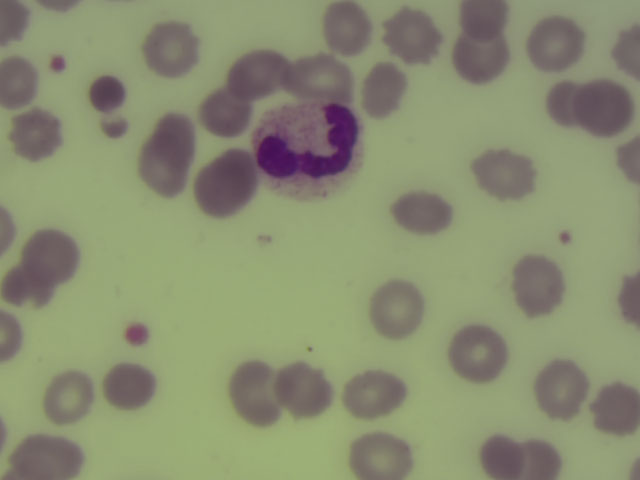Platelets: (116, 318, 154, 356), (45, 50, 74, 78), (554, 224, 578, 250)
RBC: (280, 55, 354, 101), (15, 432, 81, 480), (524, 19, 581, 73), (143, 124, 193, 182), (509, 258, 563, 310), (586, 383, 640, 435), (533, 363, 587, 415), (397, 186, 451, 238), (477, 143, 531, 195), (577, 81, 631, 133), (454, 32, 508, 84), (452, 327, 506, 379), (370, 283, 424, 335), (347, 368, 401, 420), (277, 364, 331, 416), (228, 369, 282, 421), (102, 361, 156, 413), (41, 370, 95, 422), (23, 228, 77, 280), (198, 156, 252, 208), (198, 85, 252, 137), (231, 48, 285, 100), (382, 8, 436, 60), (141, 24, 195, 76), (8, 108, 62, 160), (319, 1, 373, 52), (477, 427, 525, 480), (359, 62, 404, 118), (350, 435, 405, 480), (1, 265, 54, 310), (542, 78, 581, 128), (1, 56, 35, 113), (608, 131, 640, 191), (517, 439, 562, 480), (460, 1, 509, 35), (611, 24, 640, 78), (612, 270, 640, 323), (1, 1, 30, 46)
WBC: (253, 101, 359, 198)
